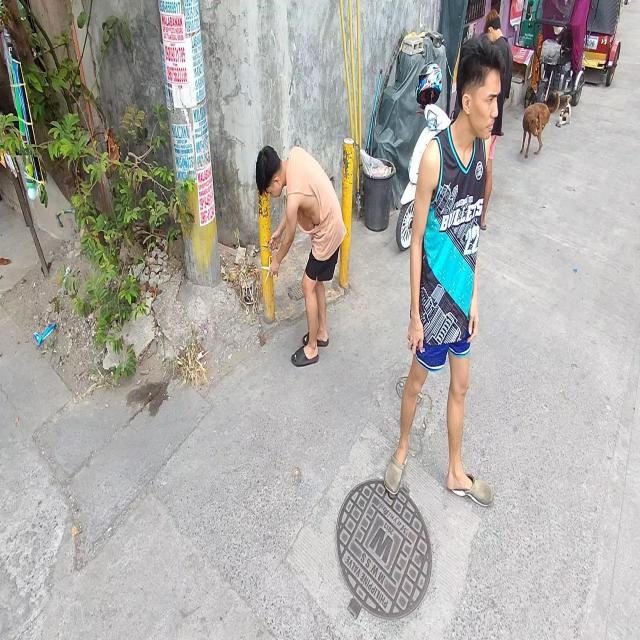scissor: (263, 259, 277, 282)
